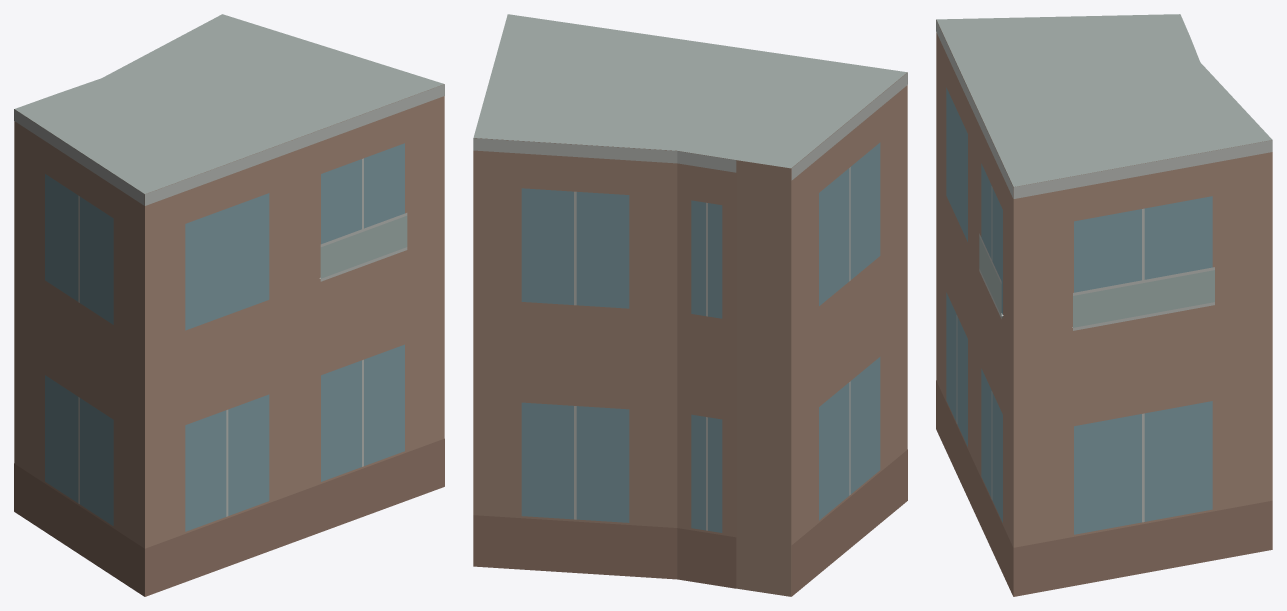
The model's file is survey-upis-32463188.glb.
3 views of the same model, side by side, from view 1: azimuth 30°, elevation 25°; view 2: azimuth 150°, elevation 25°; view 3: azimuth 270°, elevation 25° (orthographic). The views are drawn at different scales.
Visible parts, largest first — view 1: survey-upis-32463188.tmp; view 2: survey-upis-32463188.tmp; view 3: survey-upis-32463188.tmp.
Part boxes in pixels (x1=…): survey-upis-32463188.tmp: x1=14, y1=14, x2=444, y2=596; survey-upis-32463188.tmp: x1=473, y1=14, x2=907, y2=596; survey-upis-32463188.tmp: x1=936, y1=14, x2=1272, y2=596.
Bounding box in the file's own units: 7.48 × 8.25 × 6.15.
